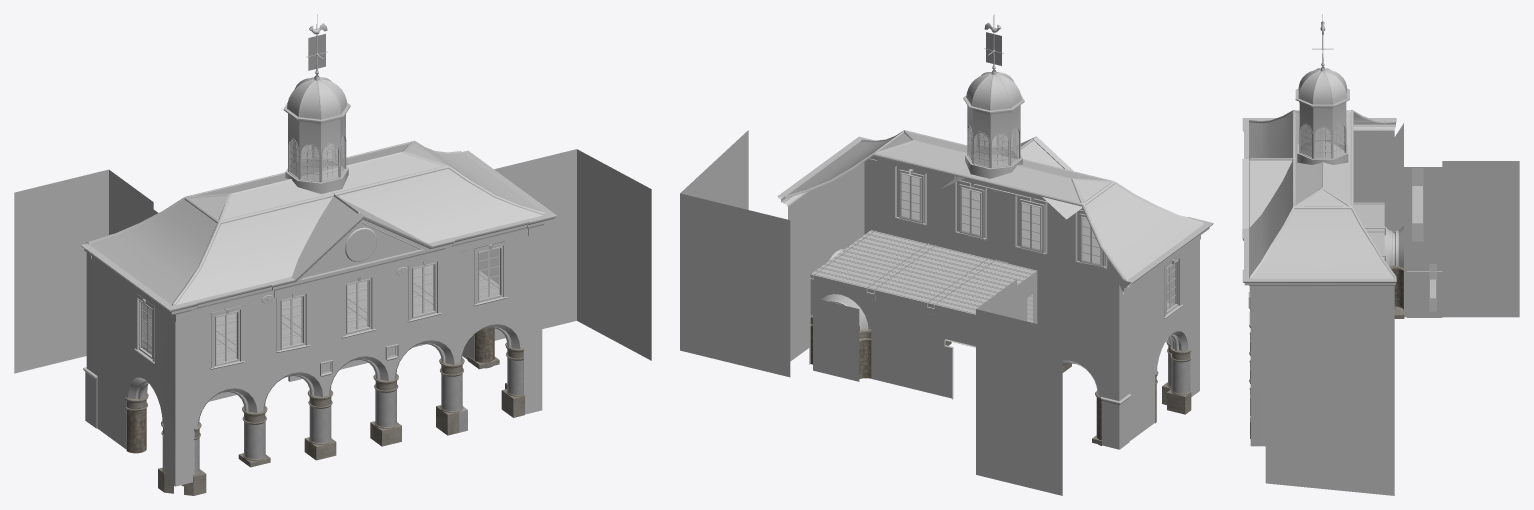
Rendered from Exterior.fbx.
The picture shows the model from 3 angles, left to right: view 1: azimuth 30°, elevation 25°; view 2: azimuth 150°, elevation 25°; view 3: azimuth 270°, elevation 25°; orthographic projection. The views are drawn at different scales.
Visible parts, largest first — view 1: MG_Exterior_Walls, MG_Exterior_Roof, MG_Exterior_PIllars, MG_Exterior_WindowGlass; view 2: MG_Exterior_Walls, MG_Exterior_Roof, MG_Exterior_WindowGlass, MG_Exterior_PIllars; view 3: MG_Exterior_Walls, MG_Exterior_Roof, MG_Exterior_WindowGlass, MG_Exterior_PIllars.
Boxes of the visible parts, bbox=[...] form: MG_Exterior_Walls: bbox=[14, 149, 651, 486]; MG_Exterior_Roof: bbox=[80, 14, 556, 321]; MG_Exterior_PIllars: bbox=[125, 328, 524, 495]; MG_Exterior_WindowGlass: bbox=[142, 137, 498, 362]; MG_Exterior_Walls: bbox=[680, 130, 1199, 495]; MG_Exterior_Roof: bbox=[777, 14, 1213, 295]; MG_Exterior_WindowGlass: bbox=[900, 126, 1175, 322]; MG_Exterior_PIllars: bbox=[810, 315, 1191, 445]; MG_Exterior_Walls: bbox=[1248, 123, 1519, 495]; MG_Exterior_Roof: bbox=[1242, 14, 1396, 291]; MG_Exterior_WindowGlass: bbox=[1301, 124, 1436, 311]; MG_Exterior_PIllars: bbox=[1249, 265, 1404, 438].
Size of the model in its own units: 27.87 by 22.18 by 15.66.
